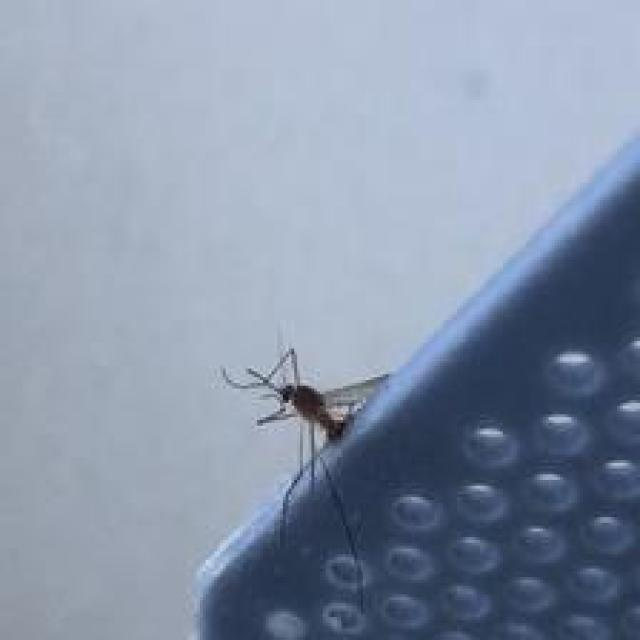Culex: (218, 343, 396, 611)
